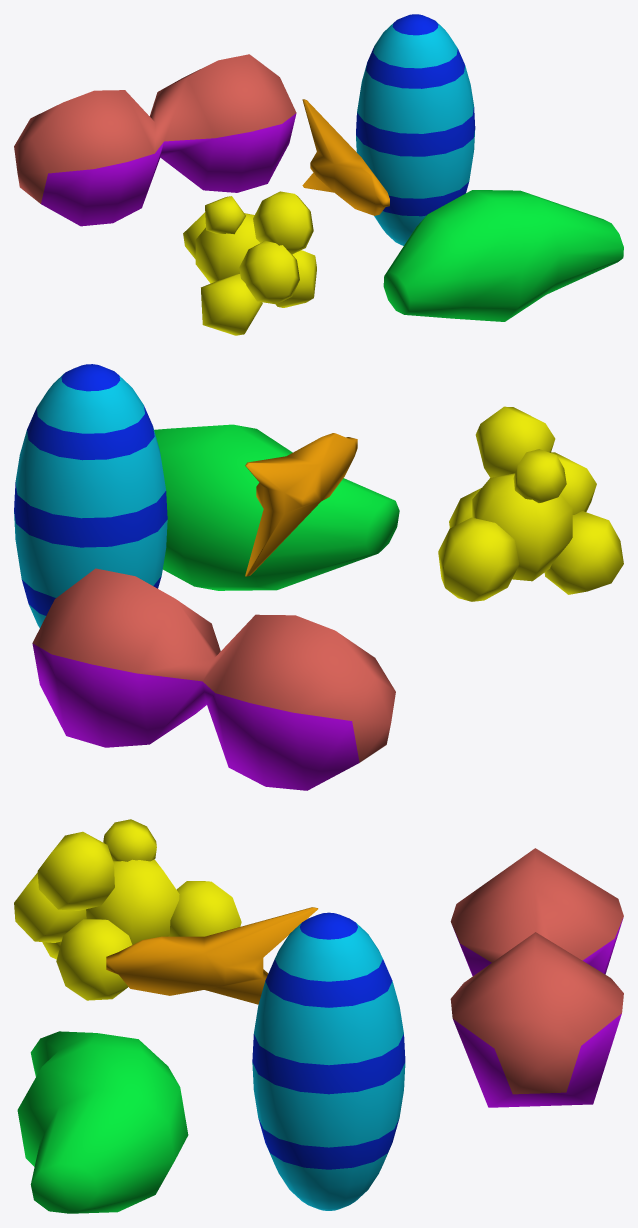
The model's file is food.fbx.
3 renders of one model, top to bottom at view 1: azimuth 30°, elevation 25°; view 2: azimuth 150°, elevation 25°; view 3: azimuth 270°, elevation 25°, orthographic. The views are drawn at different scales.
Parts seen in each view (by area): view 1: cane, paris, balas, coolies, serne; view 2: cane, balas, paris, coolies, serne; view 3: balas, cane, paris, coolies, serne.
Boxes of the visible parts, left/top/right/bottom form: cane: left=14, top=54, right=296, bottom=226; paris: left=383, top=190, right=623, bottom=321; balas: left=356, top=14, right=475, bottom=245; coolies: left=183, top=191, right=316, bottom=335; serne: left=302, top=99, right=389, bottom=215; cane: left=32, top=568, right=395, bottom=790; balas: left=14, top=364, right=167, bottom=627; paris: left=154, top=424, right=399, bottom=590; coolies: left=438, top=406, right=623, bottom=601; serne: left=245, top=433, right=357, bottom=576; balas: left=252, top=912, right=405, bottom=1210; cane: left=450, top=848, right=623, bottom=1107; paris: left=17, top=1031, right=188, bottom=1213; coolies: left=14, top=819, right=241, bottom=1000; serne: left=106, top=907, right=318, bottom=1004.
Bounding box in the file's own units: 2.53 × 1.37 × 2.58.
